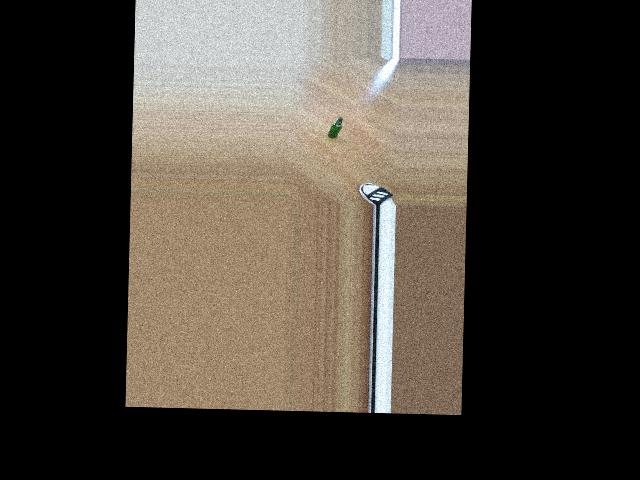beer: (328, 117, 343, 138)
